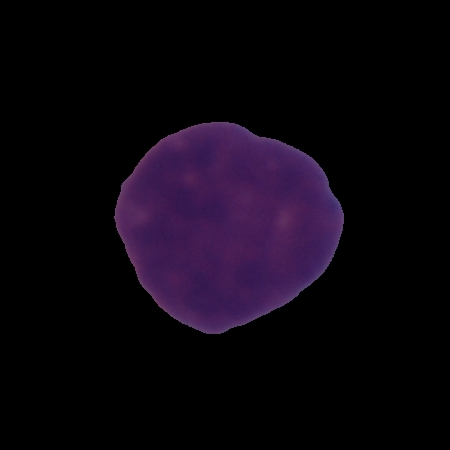ALL: (110, 117, 348, 337)
